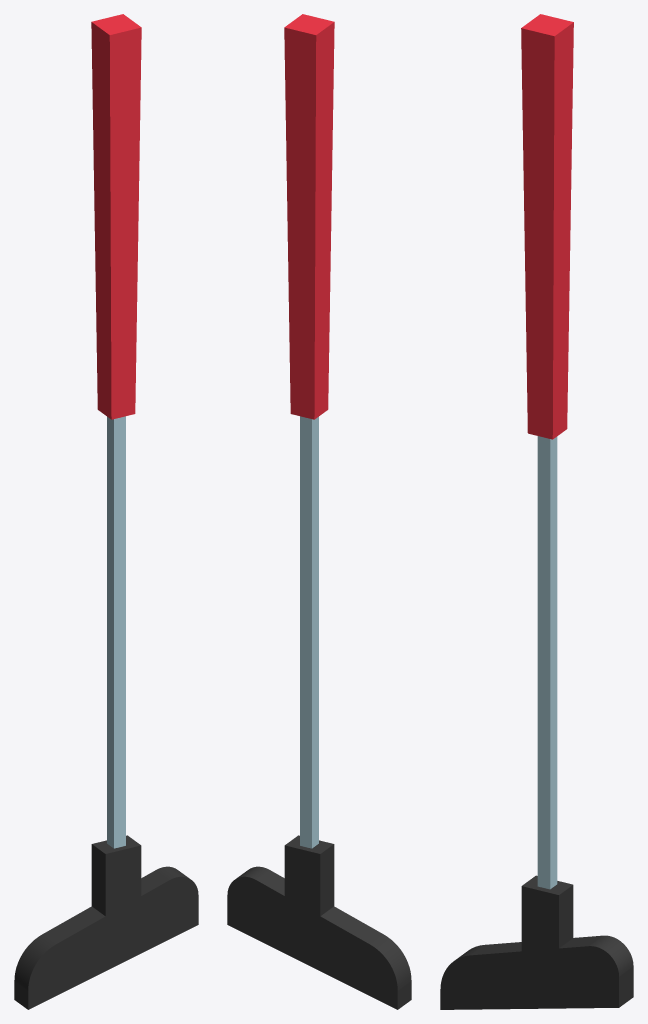
Rendered from club_red.obj.
The picture shows the model from 3 angles, left to right: view 1: azimuth 30°, elevation 25°; view 2: azimuth 150°, elevation 25°; view 3: azimuth 330°, elevation 25°; orthographic projection. The views are drawn at different scales.
Parts seen in each view (by area): view 1: club_red; view 2: club_red; view 3: club_red.
Boxes of the visible parts, bbox=[...] form: club_red: bbox=[14, 14, 198, 1009]; club_red: bbox=[227, 14, 411, 1009]; club_red: bbox=[440, 14, 633, 1009].
Bounding box in the file's own units: 0.1844 × 0.9899 × 0.0345.
